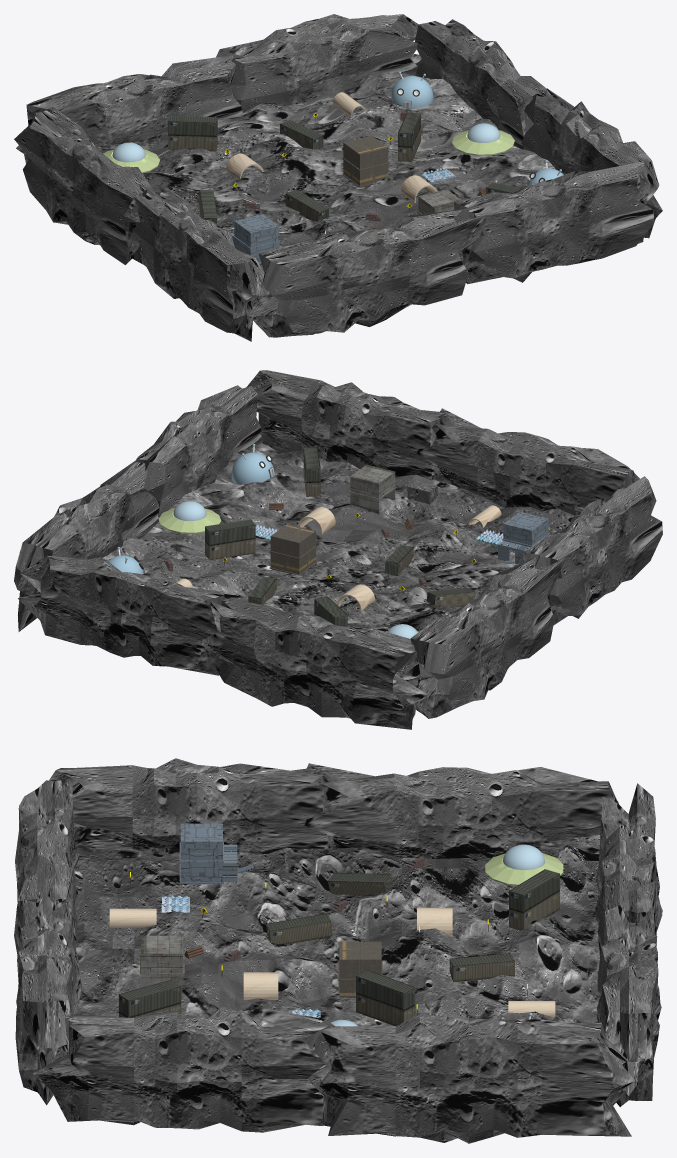
The model's file is FPS 1.fbx.
3 renders of one model, top to bottom at view 1: azimuth 30°, elevation 25°; view 2: azimuth 150°, elevation 25°; view 3: azimuth 270°, elevation 25°, orthographic. The views are drawn at different scales.
Visible parts, largest first — view 1: outwall.001, outwall, moon surface.006, building_181, Cube.026, building_181.002, ufo, Base.001, ufo.001, Cube.027, Cube.017, Cube.024 (+4 smaller); view 2: outwall.001, outwall, moon surface.006, building_181, Cube.027, building_181.003, building_181.002, ufo, Base.002, Cube.025, Cube.023, Cube.026 (+4 smaller); view 3: outwall, moon surface.006, outwall.001, building_181.002, Cube.027, Cube.026, building_181.003, ufo.001, building_181, Cube.025, Cube.024, Cube.017 (+6 smaller).
Part boxes in pixels (<box>): outwall.001: <box>16,14,659,337</box>; outwall: <box>14,19,662,341</box>; moon surface.006: <box>94,71,555,300</box>; building_181: <box>342,135,389,187</box>; Cube.026: <box>167,115,217,151</box>; building_181.002: <box>231,214,280,263</box>; ufo: <box>452,123,514,155</box>; Base.001: <box>391,71,433,108</box>; ufo.001: <box>103,142,159,173</box>; Cube.027: <box>398,112,420,161</box>; Cube.017: <box>285,189,329,221</box>; Cube.024: <box>280,120,323,149</box>; outwall.001: <box>18,370,639,729</box>; outwall: <box>14,385,662,718</box>; moon surface.006: <box>102,443,573,679</box>; building_181: <box>269,524,316,575</box>; Cube.027: <box>205,519,255,560</box>; building_181.003: <box>349,464,396,515</box>; building_181.002: <box>498,512,549,564</box>; ufo: <box>158,501,221,533</box>; Base.002: <box>232,444,274,484</box>; Cube.025: <box>303,447,320,496</box>; Cube.023: <box>426,588,475,606</box>; Cube.026: <box>314,596,347,626</box>; outwall: <box>32,758,634,1143</box>; moon surface.006: <box>74,844,599,1026</box>; outwall.001: <box>14,778,662,1106</box>; building_181.002: <box>179,823,253,884</box>; Cube.027: <box>356,970,415,1025</box>; Cube.026: <box>509,869,559,930</box>; building_181.003: <box>140,935,184,989</box>; ufo.001: <box>485,844,563,885</box>; building_181: <box>338,941,382,997</box>; Cube.025: <box>119,979,181,1017</box>; Cube.024: <box>449,953,514,982</box>; Cube.017: <box>266,913,332,945</box>.
Bounding box in the file's own units: 24355 × 5797 × 24264.
